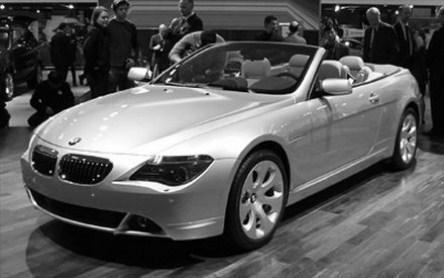car: (19, 40, 427, 251)
